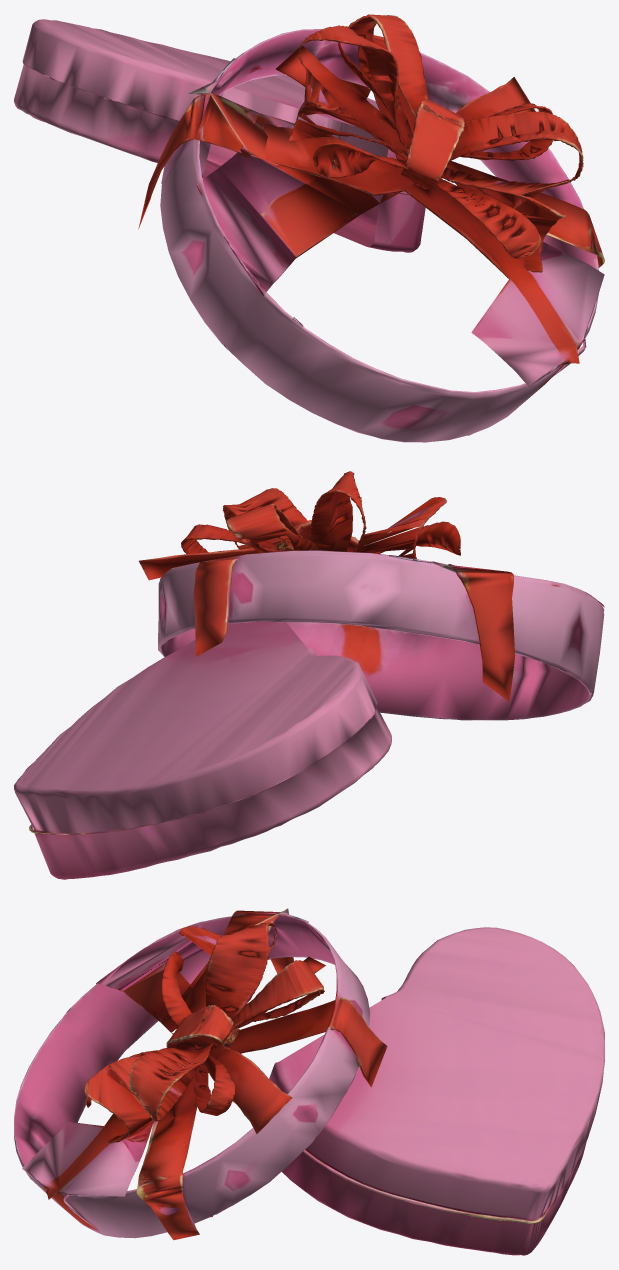
Rendered from r33-lovebox.glb.
3 views of the same model, one above another, from view 1: azimuth 30°, elevation 25°; view 2: azimuth 150°, elevation 25°; view 3: azimuth 270°, elevation 25° (orthographic). The views are drawn at different scales.
Parts seen in each view (by area): view 1: tripo_node_fccb7a3b-2a8b-4726-a983-b8571de7a6b8; view 2: tripo_node_fccb7a3b-2a8b-4726-a983-b8571de7a6b8; view 3: tripo_node_fccb7a3b-2a8b-4726-a983-b8571de7a6b8.
Part boxes in pixels (bbox=[...]): tripo_node_fccb7a3b-2a8b-4726-a983-b8571de7a6b8: bbox=[14, 14, 604, 442]; tripo_node_fccb7a3b-2a8b-4726-a983-b8571de7a6b8: bbox=[14, 471, 604, 879]; tripo_node_fccb7a3b-2a8b-4726-a983-b8571de7a6b8: bbox=[14, 908, 604, 1255].
Bounding box in the file's own units: 0.6621 × 0.5098 × 0.998.
1 material, 1 textured.
